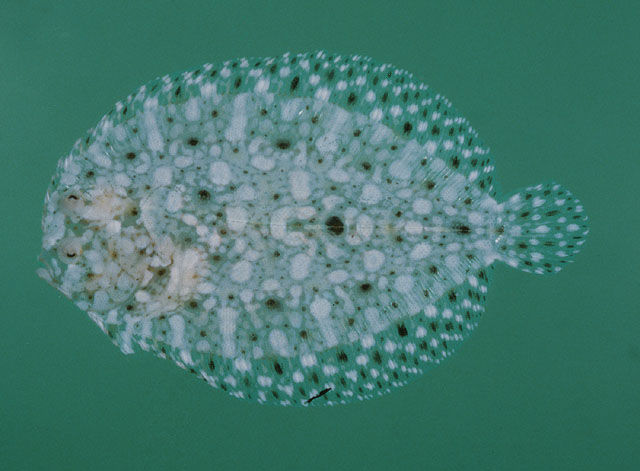fish: (38, 51, 591, 407)
